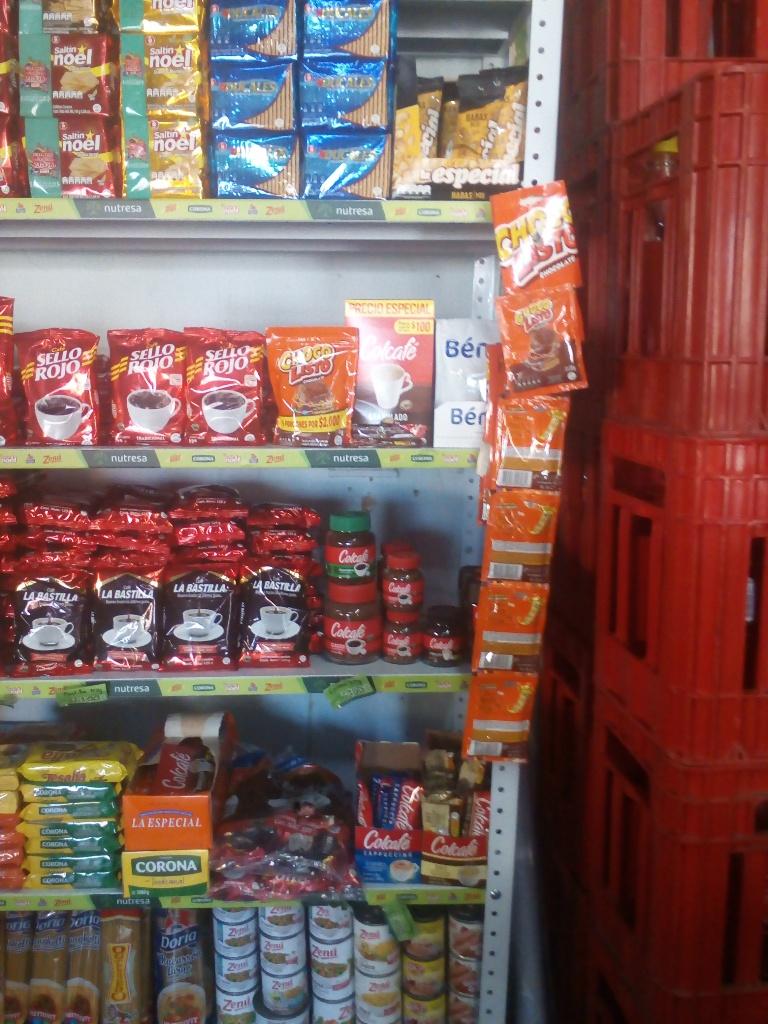COL0170103SOB02000: (487, 281, 582, 406)
